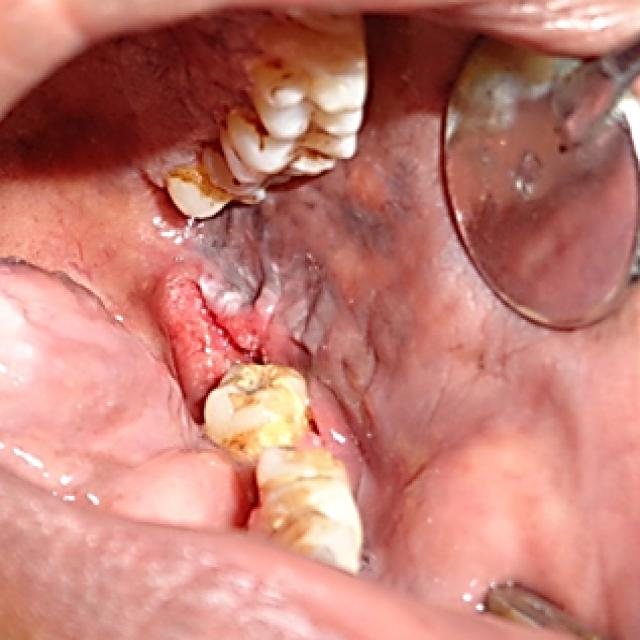cancer-detection: (131, 142, 425, 459)
processing_area: (0, 15, 638, 629)
